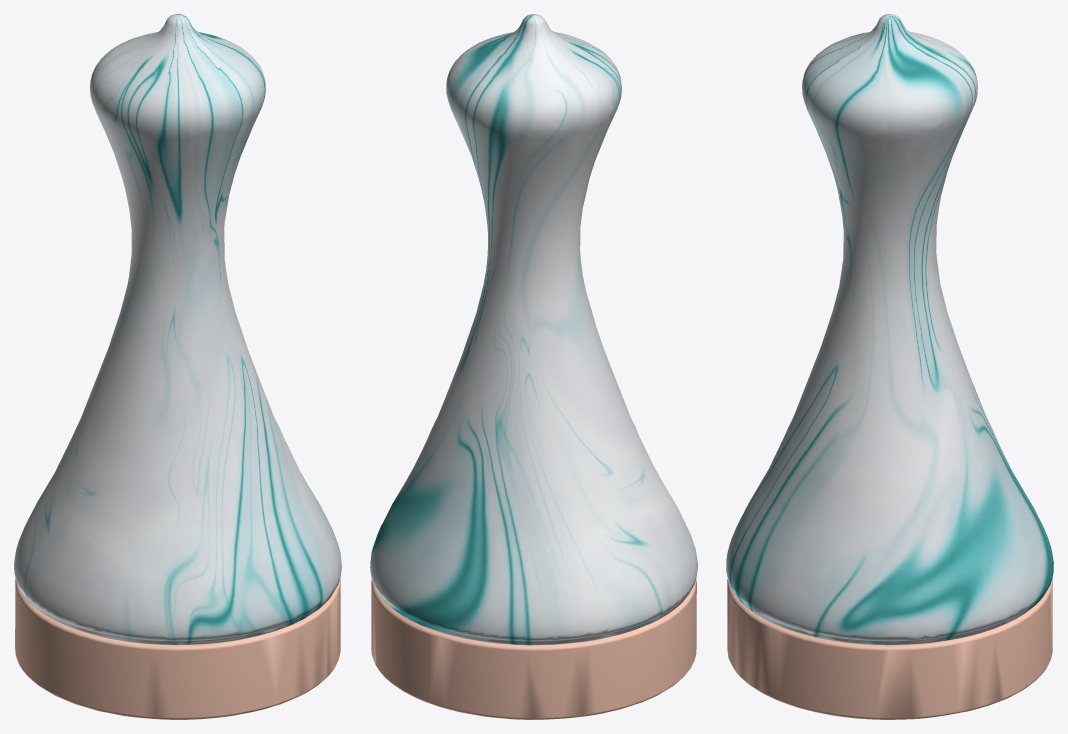
Rendered from queen-white.glb.
3 renders of one model, left to right at view 1: azimuth 30°, elevation 25°; view 2: azimuth 150°, elevation 25°; view 3: azimuth 270°, elevation 25°, orthographic.
Visible parts, largest first — view 1: dama_cerna; view 2: dama_cerna; view 3: dama_cerna.
Boxes of the visible parts, bbox=[...] form: dama_cerna: bbox=[14, 14, 341, 719]; dama_cerna: bbox=[370, 14, 697, 719]; dama_cerna: bbox=[726, 14, 1053, 719].
Size of the model in its own units: 0.6755 by 1.45 by 0.6752.
2 materials, 1 textured.
